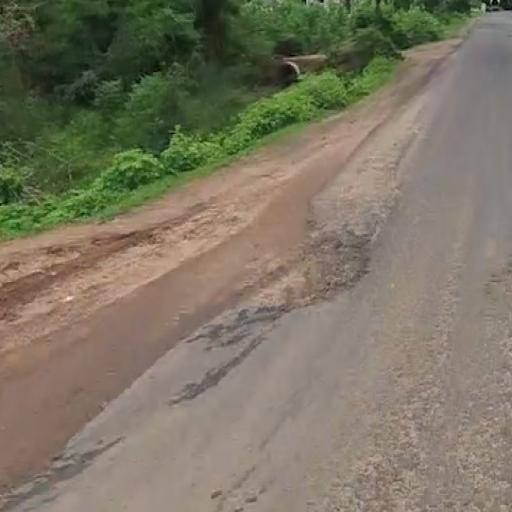edge_damage: (206, 188, 417, 350)
